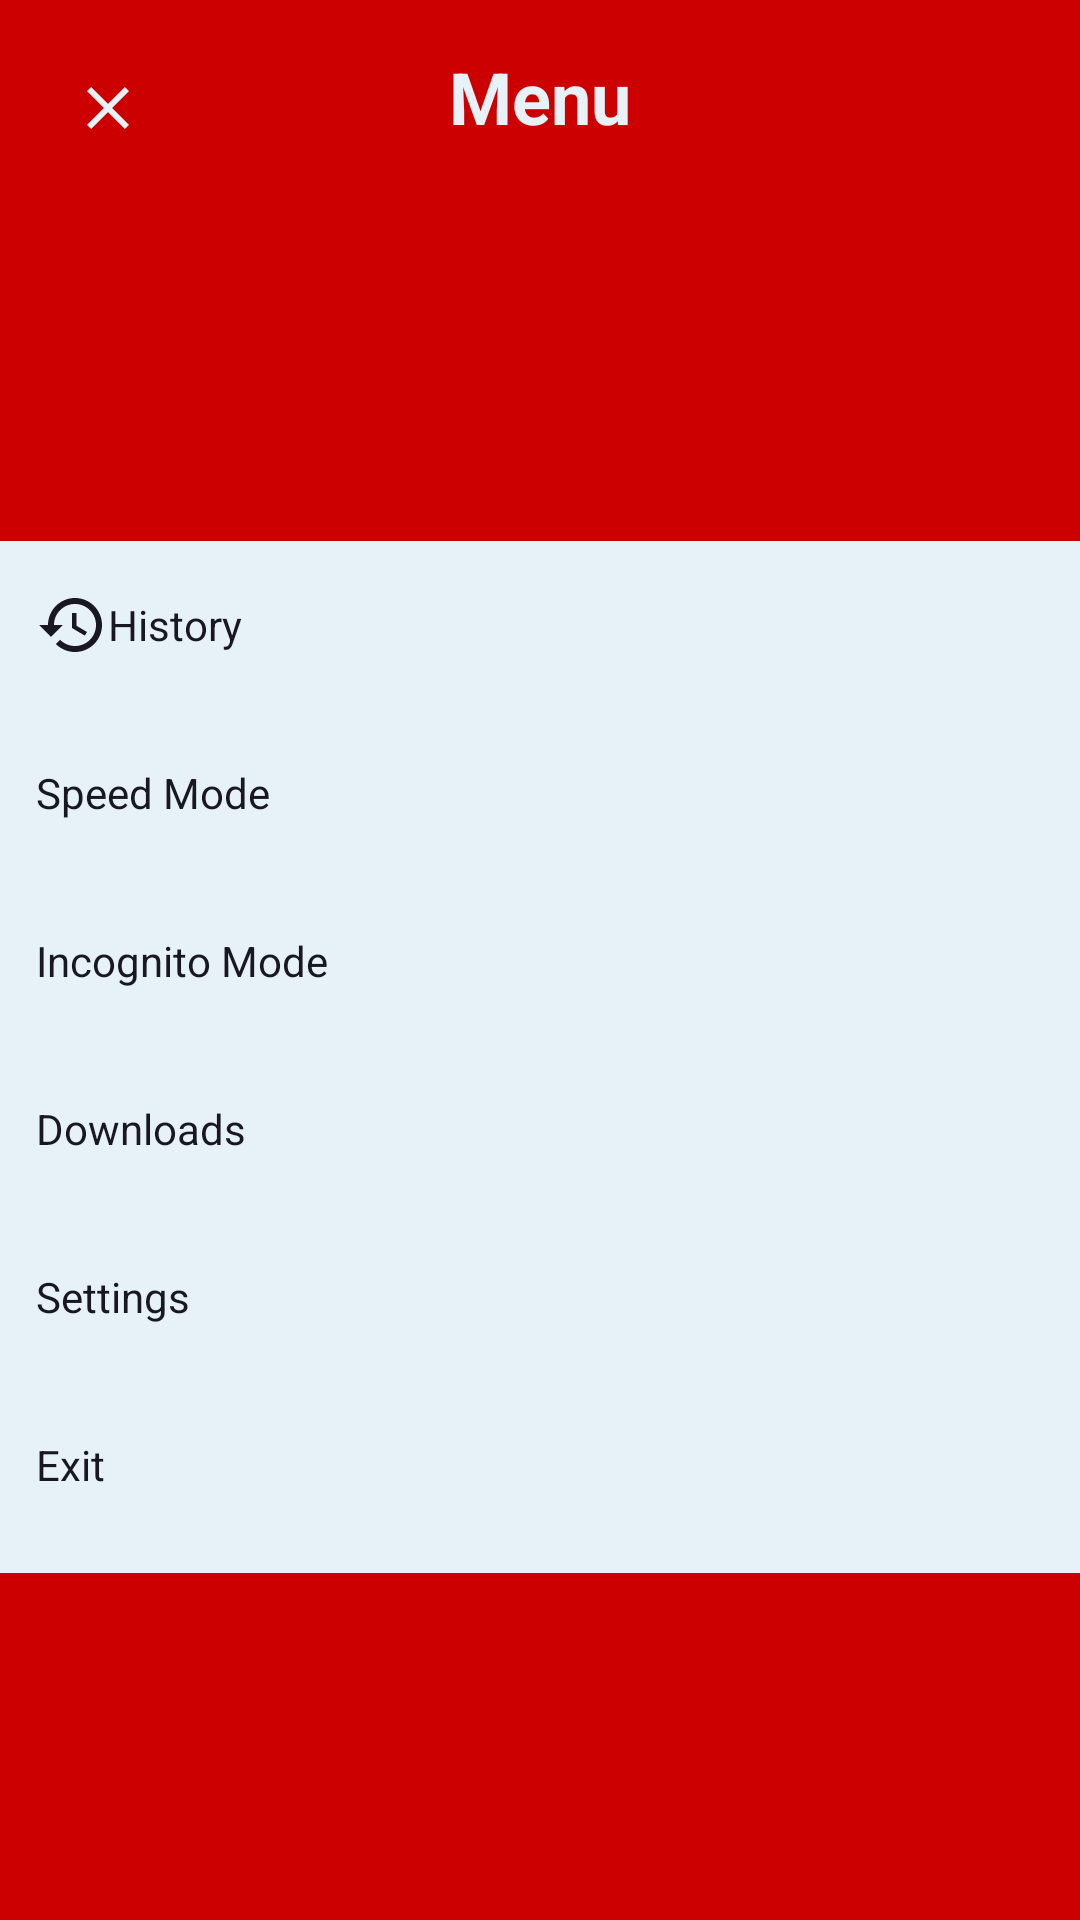

Named icons in this screenshot (1080px x 1920px) and their centers, (x=x, y=y):
close: (x=108, y=108)
